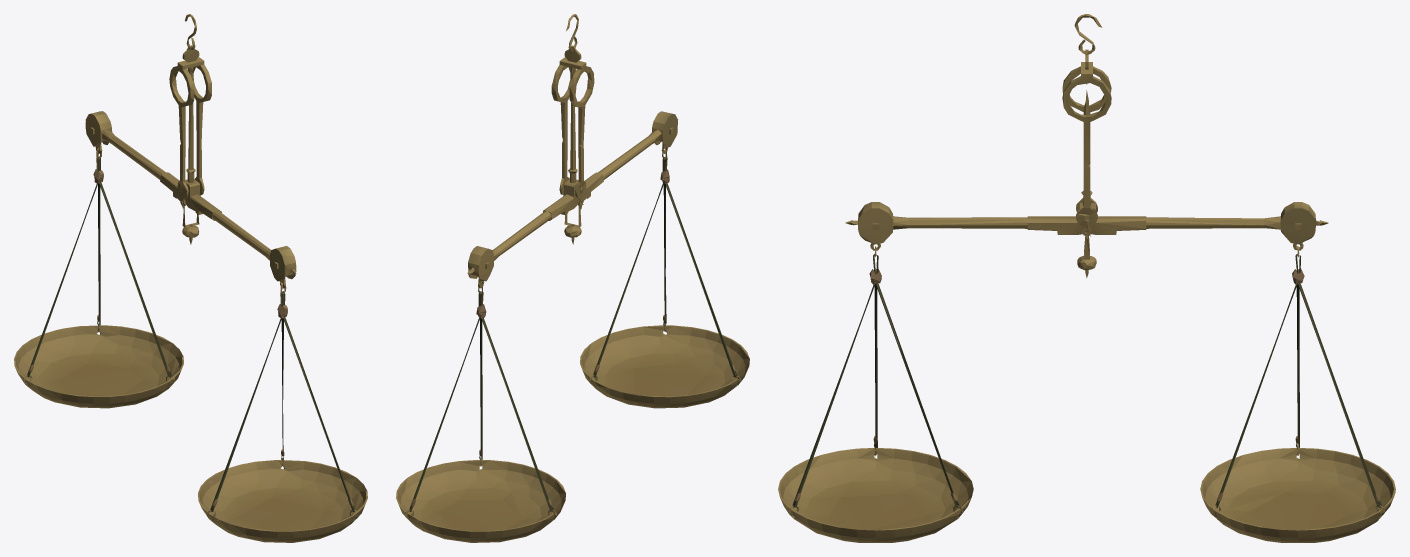
Rendered from pharmacyscale_13528788.glb.
The picture shows the model from 3 angles, left to right: view 1: azimuth 30°, elevation 25°; view 2: azimuth 150°, elevation 25°; view 3: azimuth 270°, elevation 25°; orthographic projection. The views are drawn at different scales.
Parts seen in each view (by area): view 1: Pharmacy_scale_Pharmacy_scale_MAT_0; view 2: Pharmacy_scale_Pharmacy_scale_MAT_0; view 3: Pharmacy_scale_Pharmacy_scale_MAT_0.
Part boxes in pixels (box(x1,y1,x2,y2)): Pharmacy_scale_Pharmacy_scale_MAT_0: box(14, 14, 367, 542); Pharmacy_scale_Pharmacy_scale_MAT_0: box(396, 14, 749, 542); Pharmacy_scale_Pharmacy_scale_MAT_0: box(778, 14, 1395, 542).
Bounding box in the file's own units: 0.1668 × 0.4636 × 0.5204.
